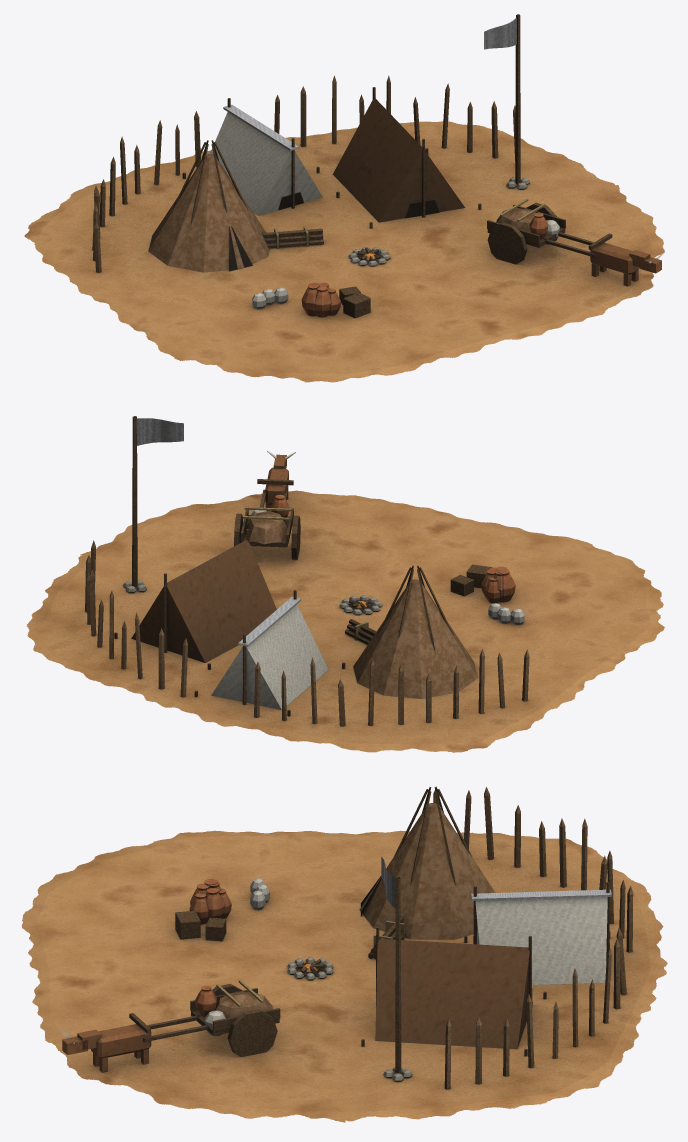
The model's file is outpost-bronze.glb.
The picture shows the model from 3 angles, top to bottom: view 1: azimuth 30°, elevation 25°; view 2: azimuth 150°, elevation 25°; view 3: azimuth 270°, elevation 25°; orthographic projection. The views are drawn at different scales.
Visible parts, largest first — view 1: LOD0; view 2: LOD0; view 3: LOD0.
Boxes of the visible parts, x1,y1,x2,y2 form: LOD0: (24, 14, 664, 382); LOD0: (26, 416, 664, 752); LOD0: (21, 786, 667, 1122).
Size of what is drawn, in the model's own units: 4.02 by 1.28 by 3.77.
Materials: 3 (3 with a texture image).
